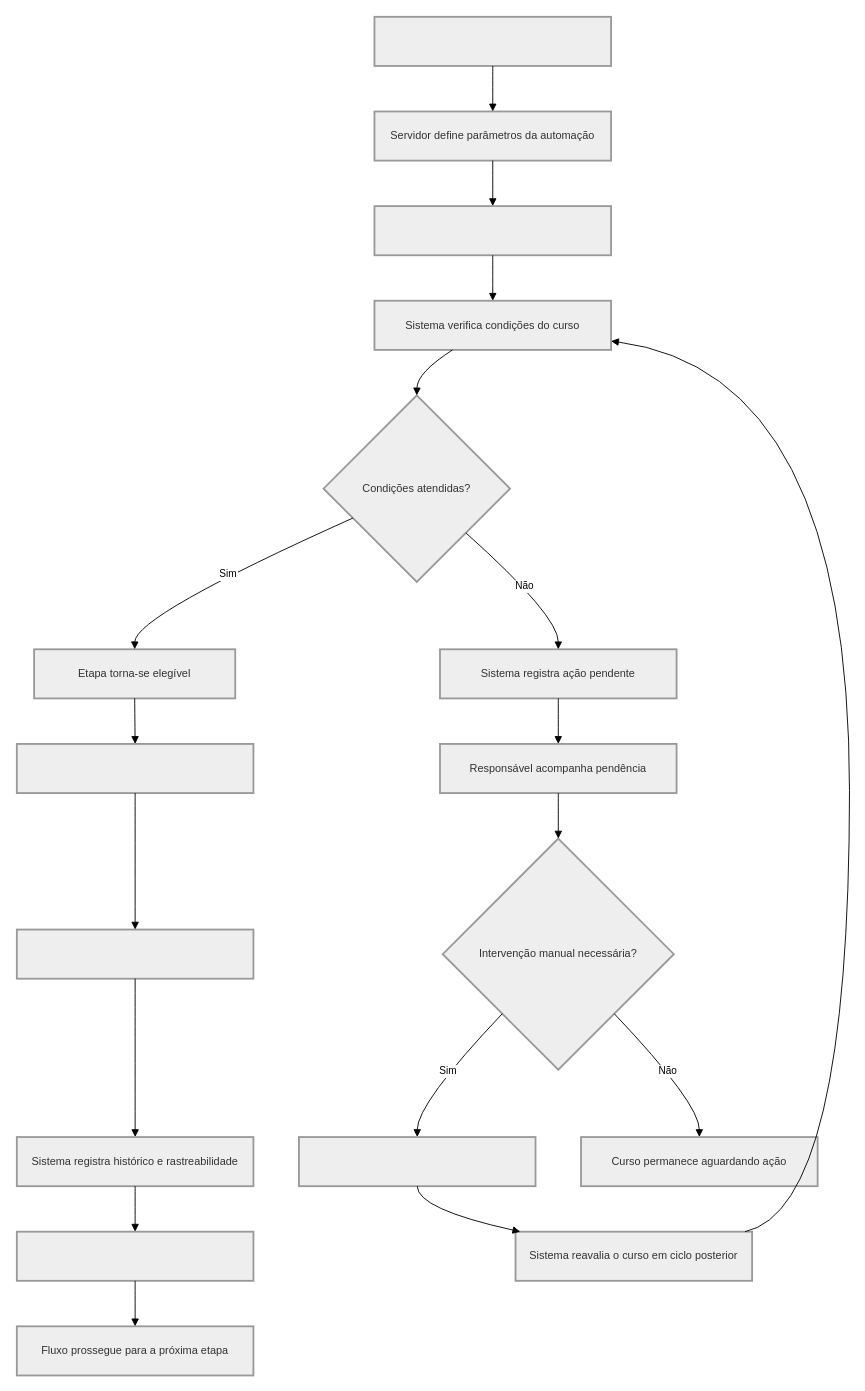
This 865x1391 diagram has some shape labels left out. The centre of each missing label's shape, as x and y in pixels:
Curso criado ou configurado no Educa EMES: [492,40]
Responsável corrige cadastro ou ajusta configuração: [417,1161]
Sistema agenda análise periódica: [492,230]
Sistema atualiza status da etapa: [134,953]
Sistema executa ação automatizada: [134,768]
Sistema notifica responsáveis quando necessário: [134,1255]
